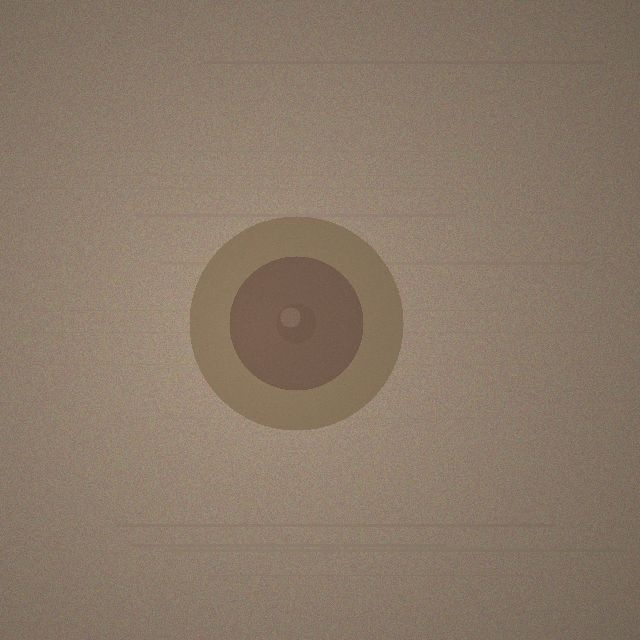good: (189, 216, 403, 430)
